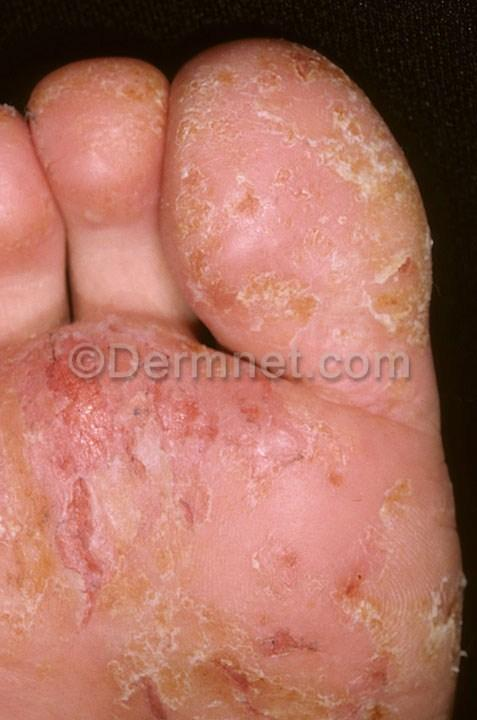Eczema: (116, 349, 267, 469), (120, 586, 247, 713), (275, 482, 403, 602), (0, 426, 103, 564), (95, 470, 204, 596), (322, 240, 443, 349), (0, 563, 127, 661), (231, 606, 340, 720), (169, 179, 256, 321), (338, 602, 437, 720), (18, 335, 137, 433), (191, 465, 275, 596), (309, 141, 416, 238), (169, 70, 261, 179), (0, 640, 122, 720), (383, 453, 461, 576), (56, 149, 149, 241), (251, 239, 332, 339), (263, 370, 339, 474), (275, 65, 375, 142), (327, 363, 386, 474), (0, 194, 65, 293), (242, 148, 307, 246), (385, 348, 437, 458), (217, 299, 284, 378), (422, 578, 463, 679), (50, 67, 125, 117), (113, 66, 167, 133), (250, 39, 311, 85), (1, 108, 27, 148)
